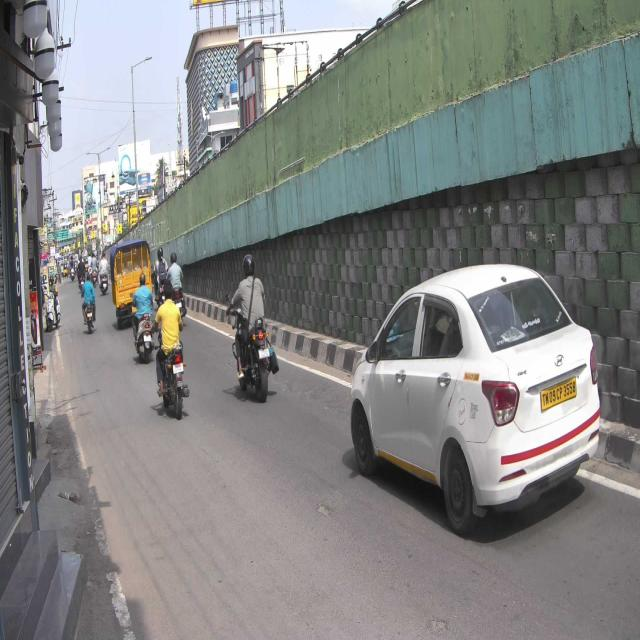single_rider: (224, 252, 278, 403)
